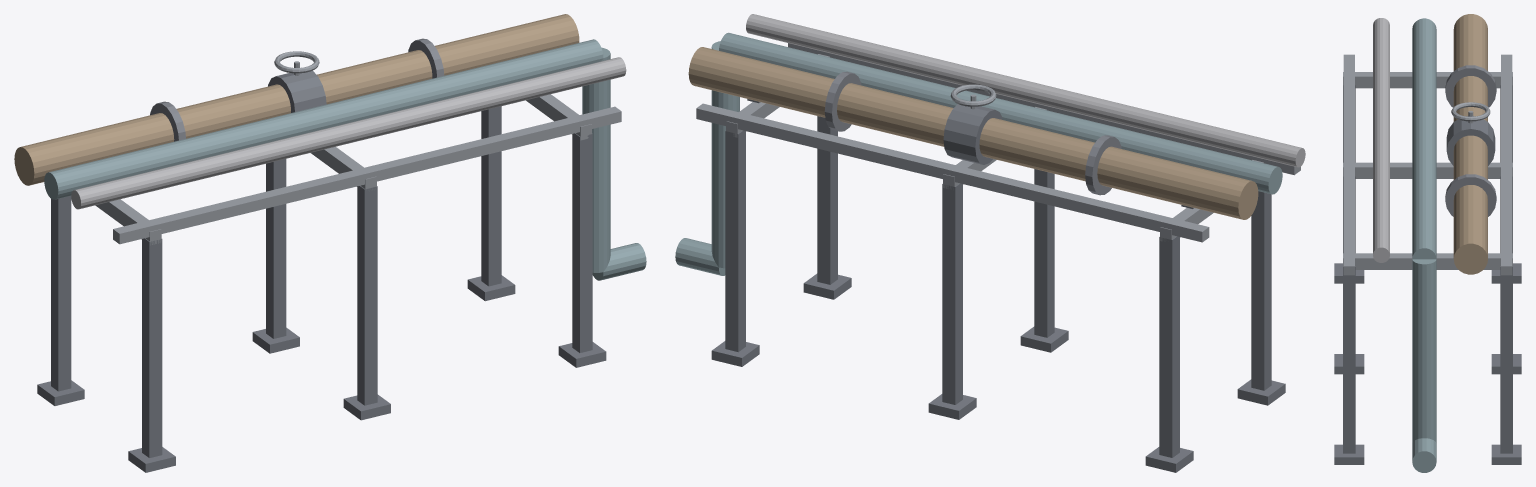
The model's file is obra-mecanica.glb.
3 views of the same model, side by side, from view 1: azimuth 30°, elevation 25°; view 2: azimuth 150°, elevation 25°; view 3: azimuth 270°, elevation 25° (orthographic). The views are drawn at different scales.
Visible parts, largest first — view 1: world; view 2: world; view 3: world.
Part boxes in pixels (left/top/right/bottom): world: left=14, top=14, right=646, bottom=472; world: left=675, top=14, right=1305, bottom=472; world: left=1334, top=14, right=1521, bottom=472.
Size of the model in its own units: 8.2 by 3.98 by 2.62.
